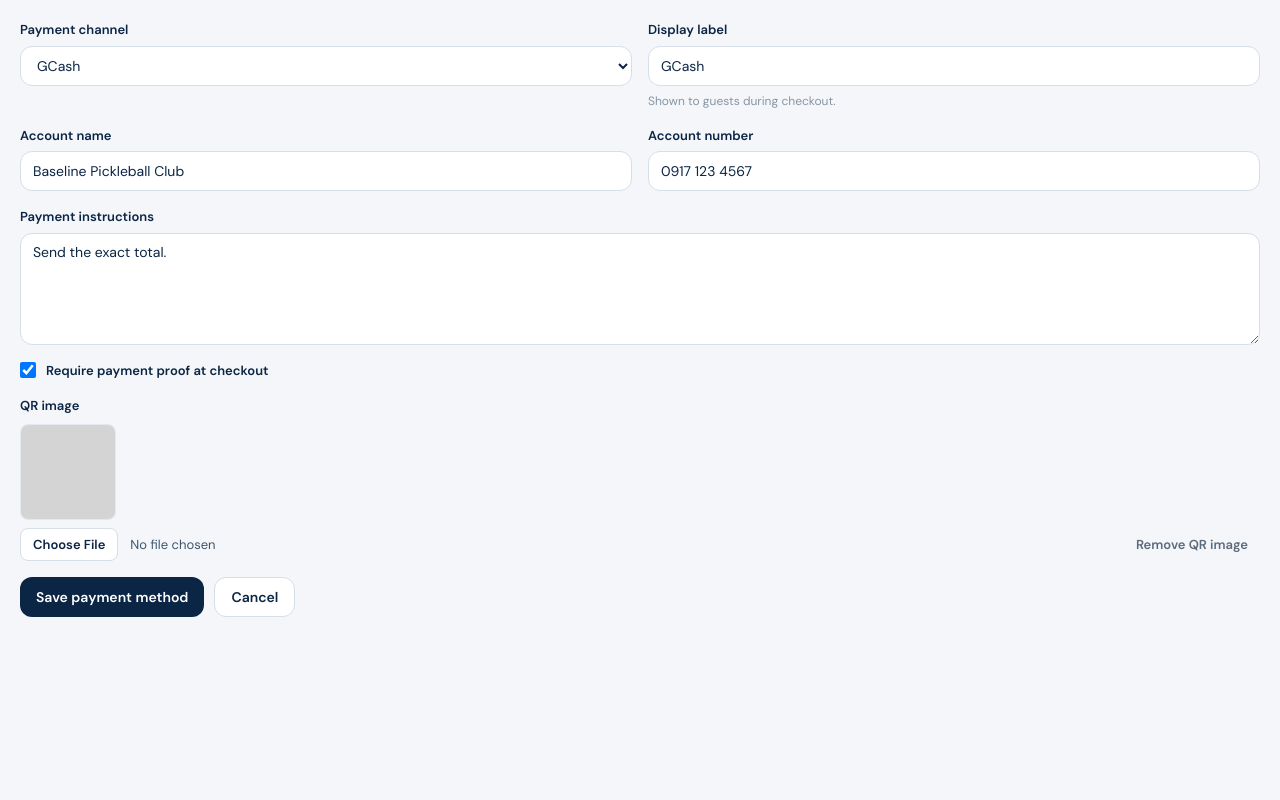
it: PaymentMethodEditor › shows a server refusal without closing the editor
Click the button "Save payment method": (112, 597) [20,577,204,617]
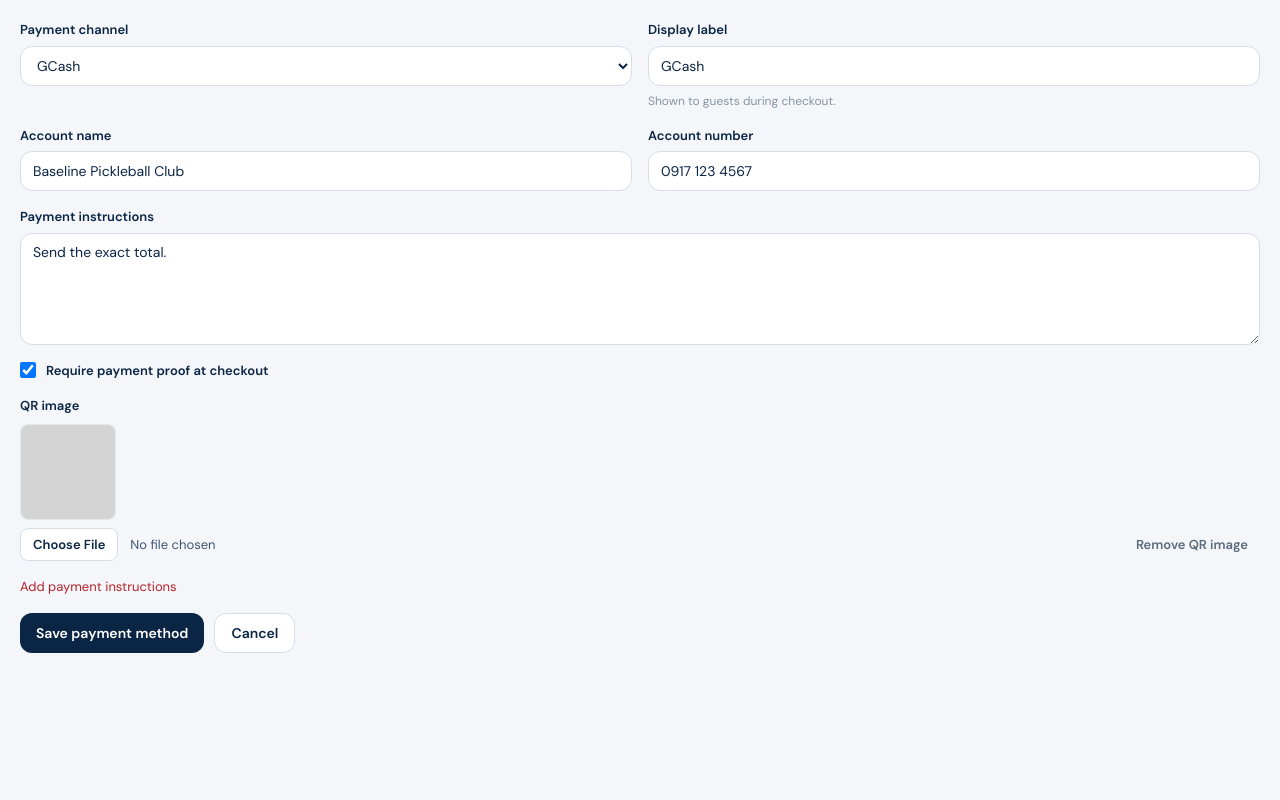
expect the field labelled "Display label" is shown: met, box [648,46,1260,86]
expect the message shows "payment instructions": met, box [20,578,177,595]
